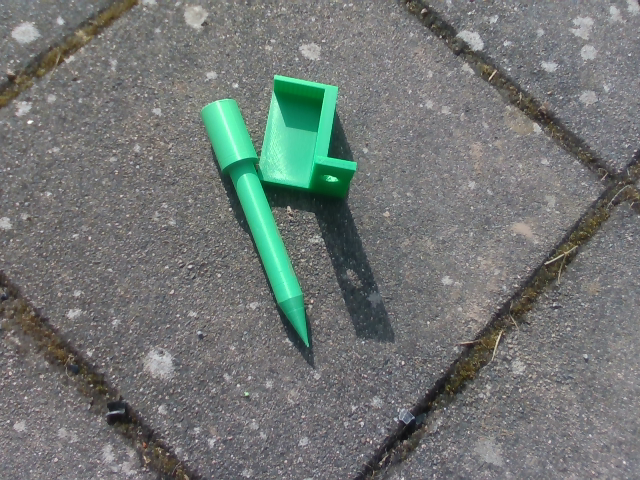Probe: (198, 94, 312, 353)
